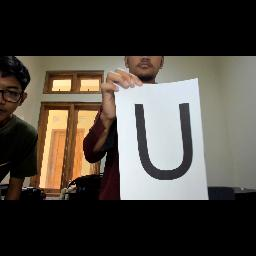u: (126, 98, 208, 186)
